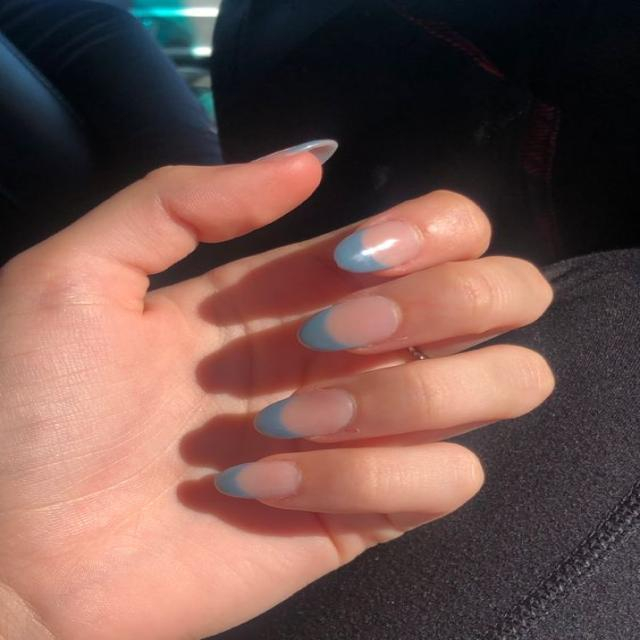Fingernail: (300, 296, 401, 351), (255, 389, 356, 439), (334, 220, 421, 273), (215, 461, 301, 498), (254, 140, 337, 163)
